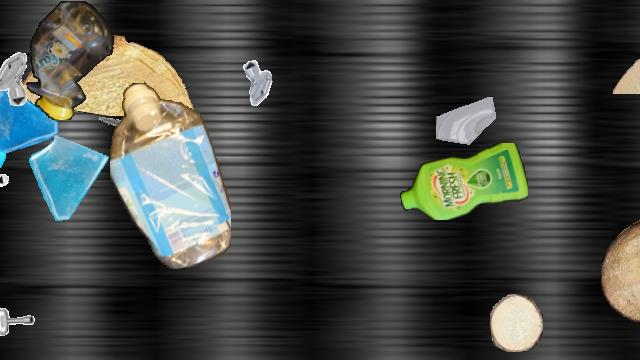glass: (23, 133, 115, 225), (0, 76, 63, 164), (436, 96, 498, 158), (0, 137, 6, 215)
metal: (0, 303, 44, 359), (236, 57, 284, 105), (0, 50, 39, 108), (94, 104, 138, 148), (0, 156, 29, 194)
plastic: (110, 81, 230, 269), (25, 1, 115, 119), (400, 143, 528, 219), (0, 249, 1, 359)
wood: (19, 35, 205, 115), (601, 216, 640, 326), (490, 294, 542, 352), (612, 51, 640, 93)
